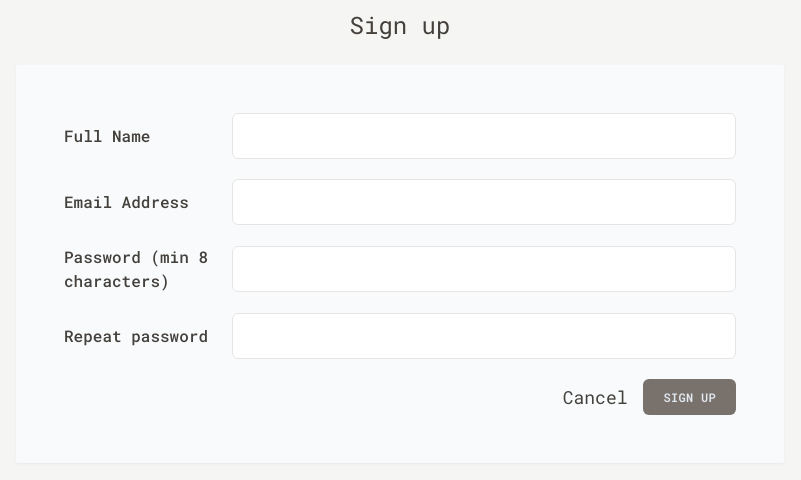
Test: sign up form tests › displays error if the passwords do not match
Type "Natalie" into the field named "fullName" next to "Full Name". click: [484, 136]
box: [232,113,736,159]
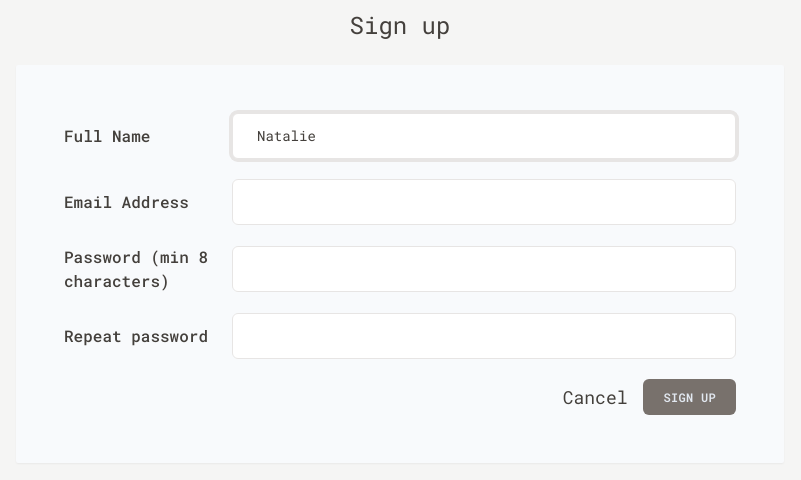
Type "natalie@example.com" into the field named "email" next to "Email Address". click: [484, 202]
box: [232,179,736,225]
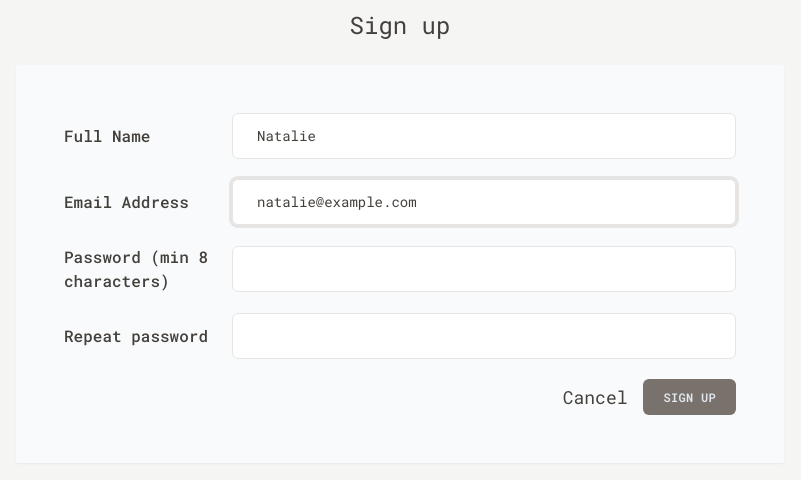
Type "12345678" into the password field named "password" next to "Password (min 8 characters)". click: [484, 269]
box: [232,246,736,292]
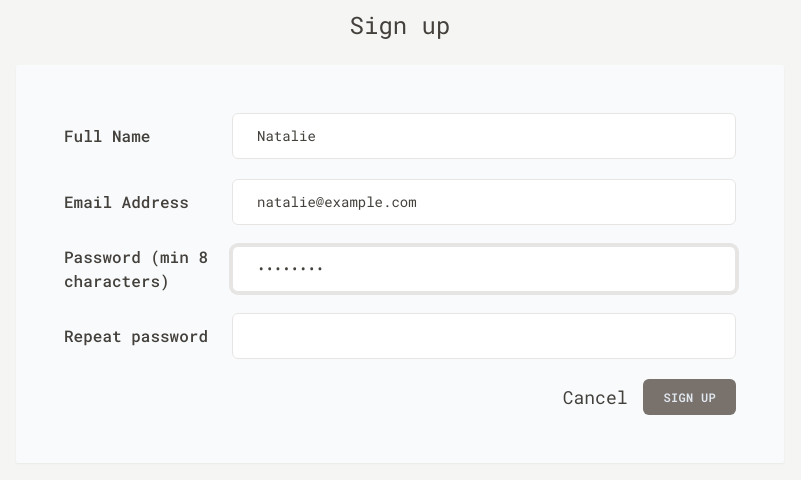
Type "1234567" into the password field named "passwordConfirm" next to "Repeat password". click: [484, 336]
box: [232,313,736,359]
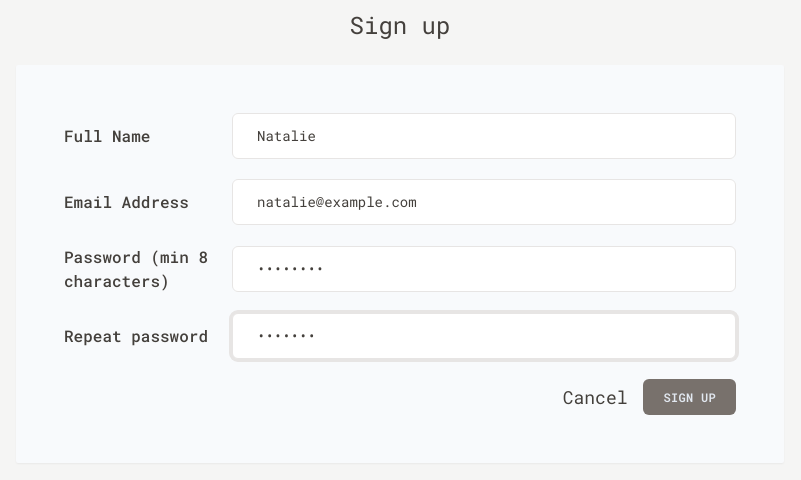
Click the button "Sign up". click: [691, 397]
box: [644,379,737,415]
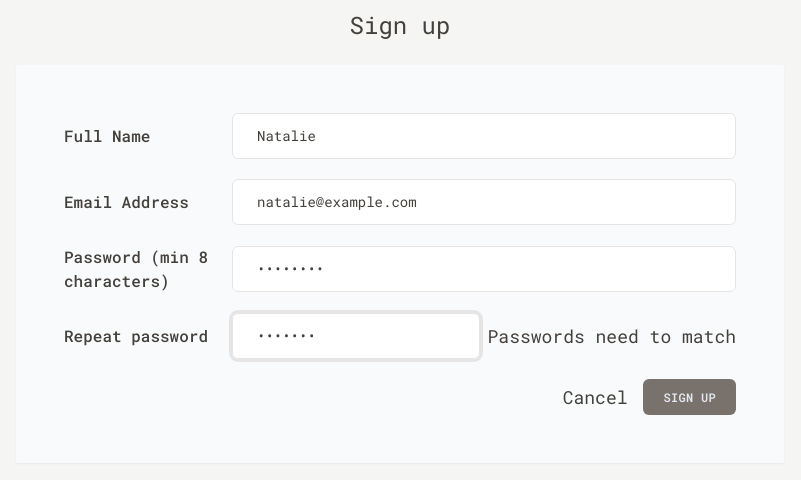
Expected: the text "Passwords need to match" is shown, [488,322,736,350]
